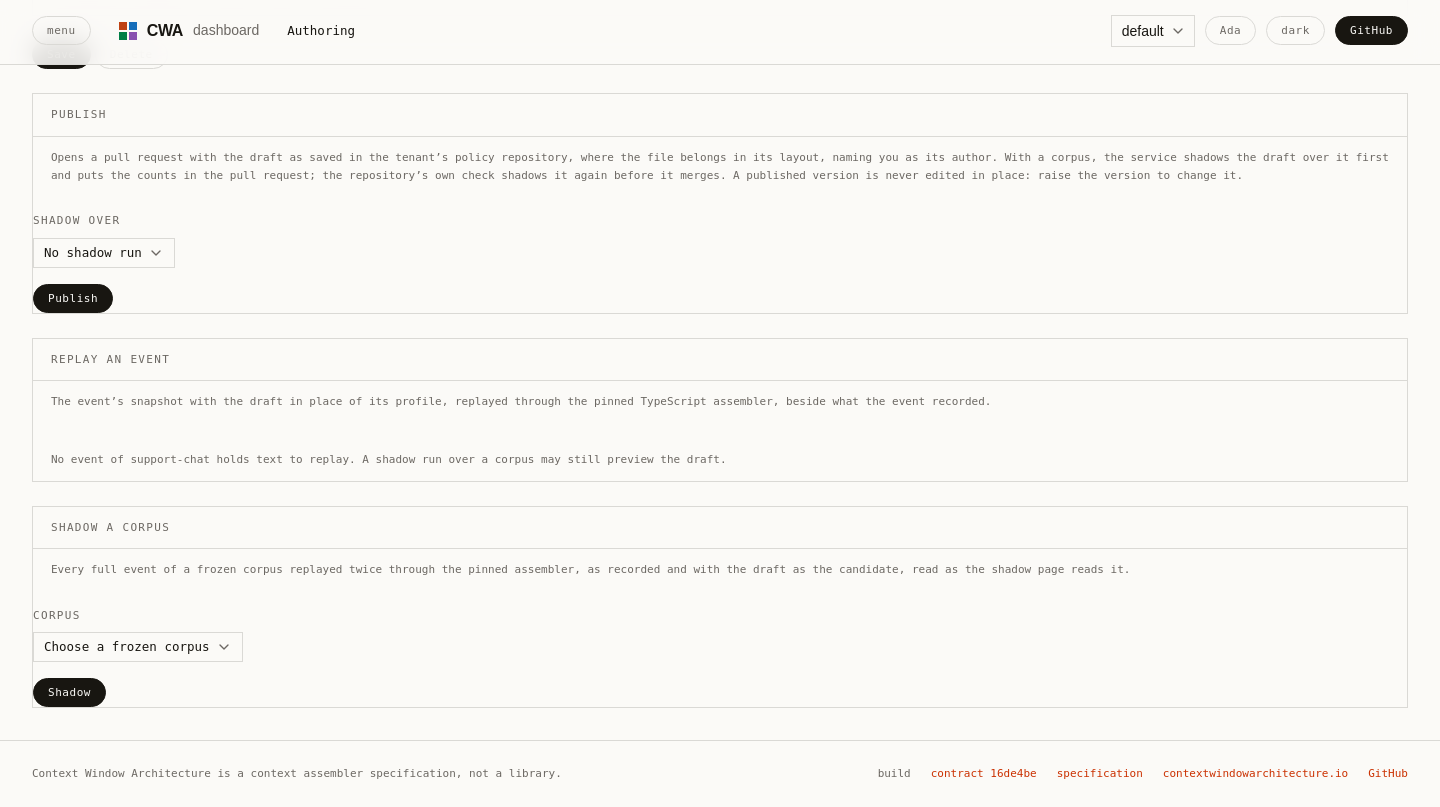
Scenario: the authoring page › shadows a corpus with the draft as the candidate
The width and height of the screenshot is (1440, 807).
(page scrolled)
Click the dropdown labelled "corpus" at coordinates (138, 647), box top-left (33, 632), bottom-right (243, 662)
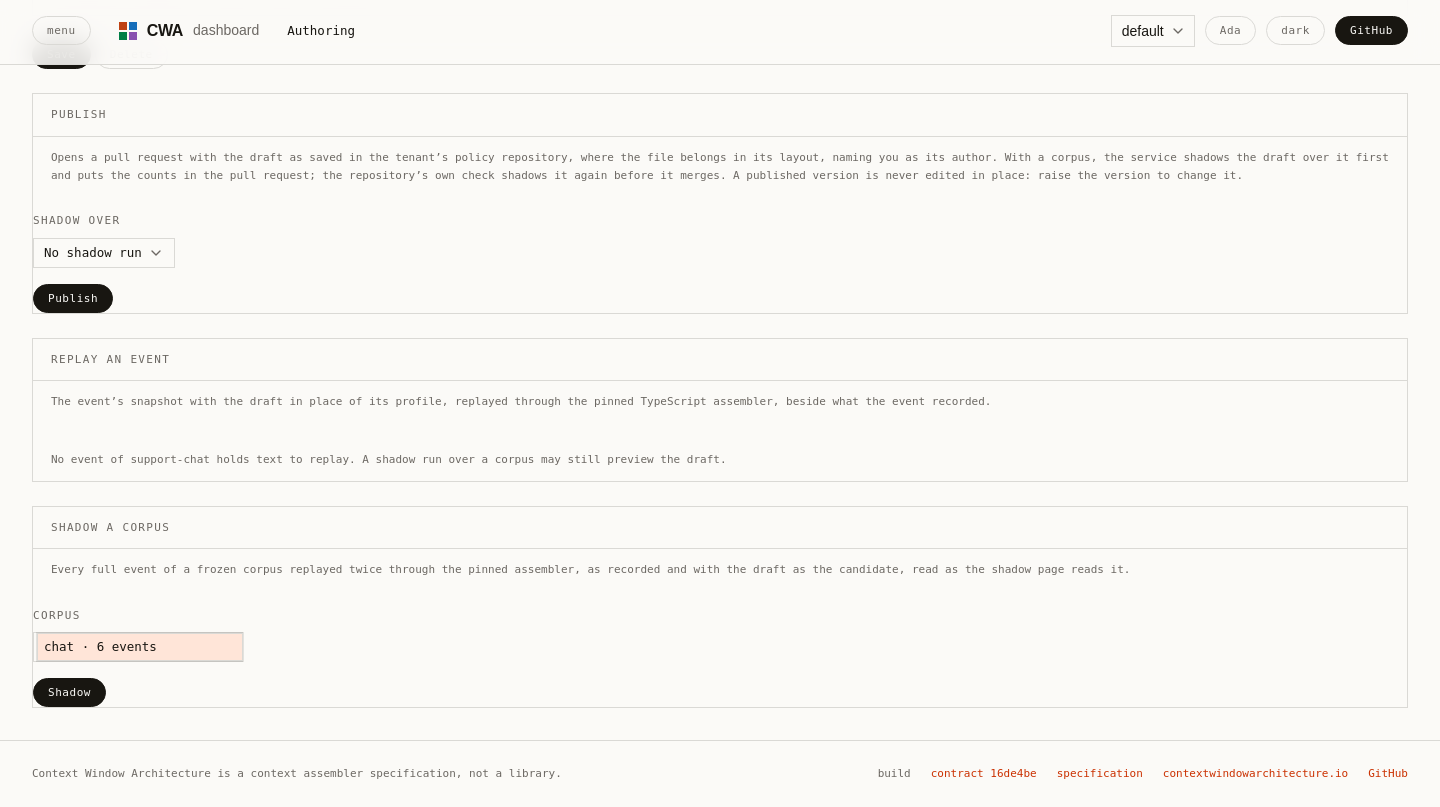
Click the option "chat · 6 events" at coordinates (140, 647), box top-left (38, 634), bottom-right (242, 660)
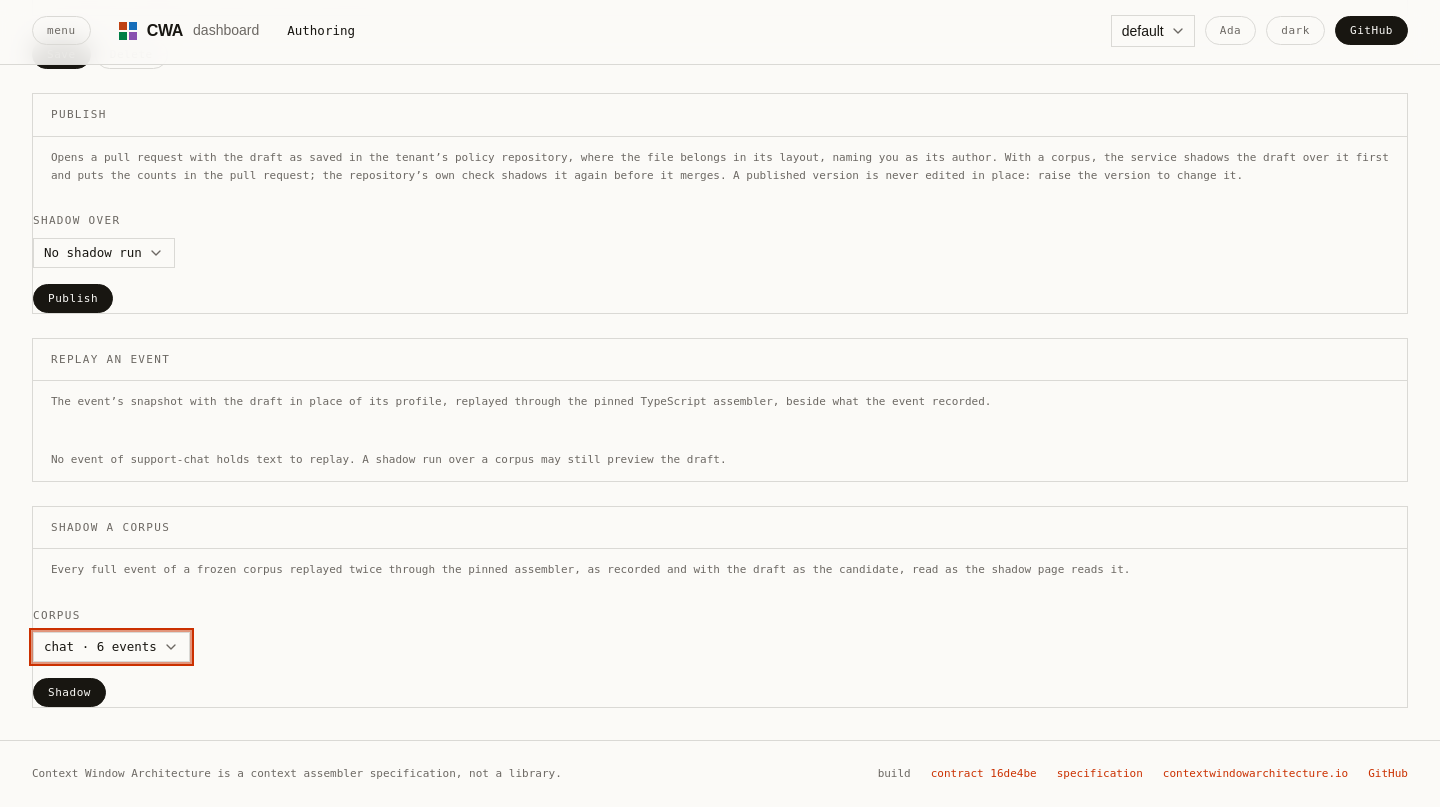
Click the button "Shadow" at coordinates (70, 693), box top-left (33, 678), bottom-right (106, 707)
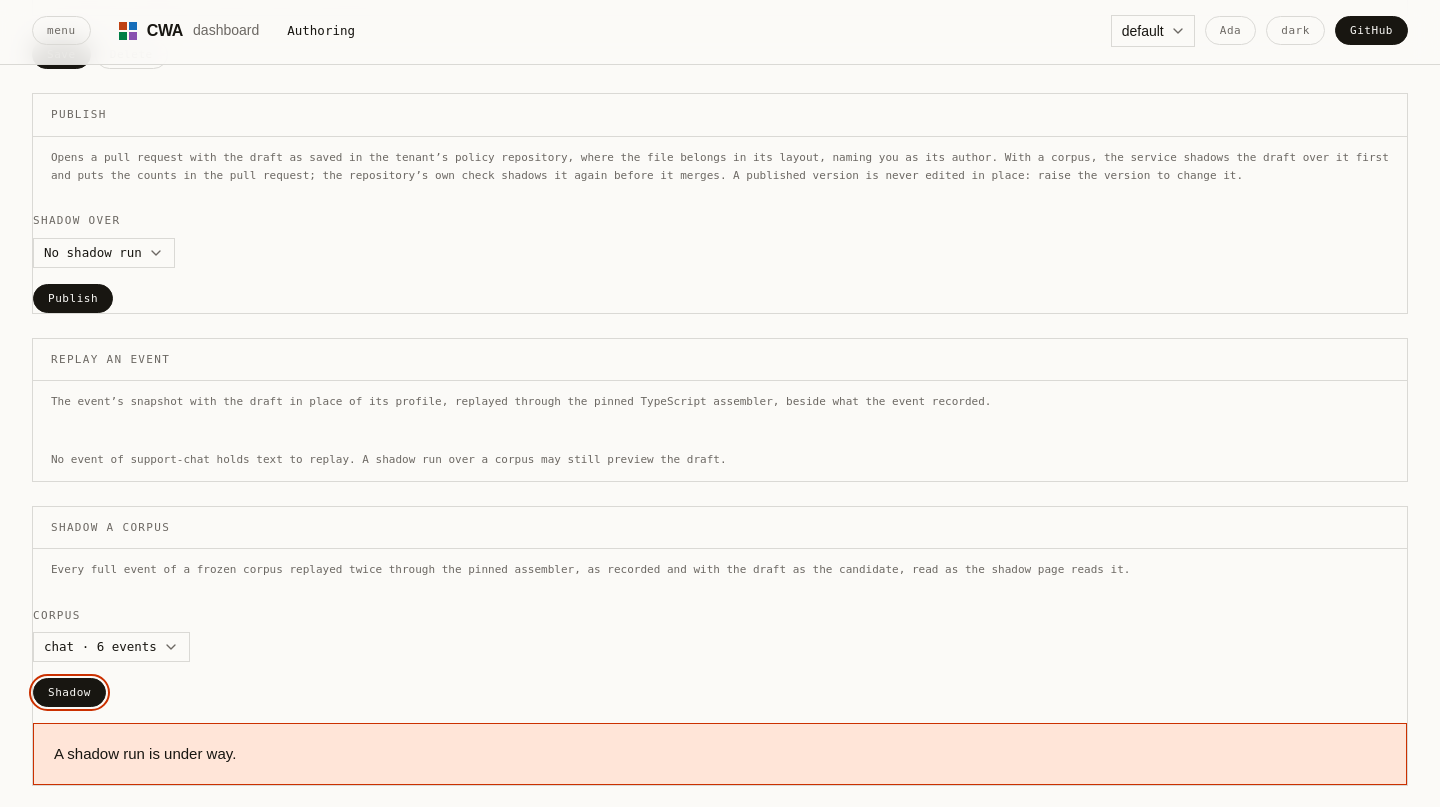
Expected: the message shows "under way", top-left (54, 745), bottom-right (236, 762)
